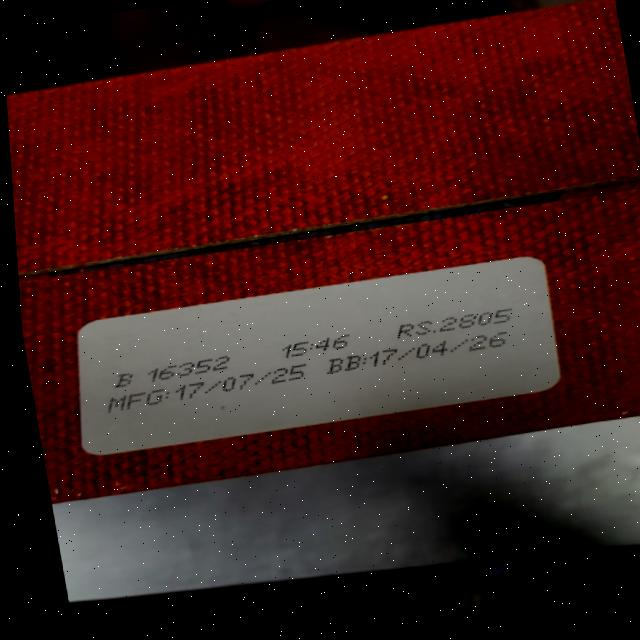BB: (327, 326, 518, 376)
Batch: (109, 353, 236, 388)
MFG: (103, 362, 313, 414)
RS: (392, 305, 517, 341)
TimeStamp: (279, 332, 354, 359)
